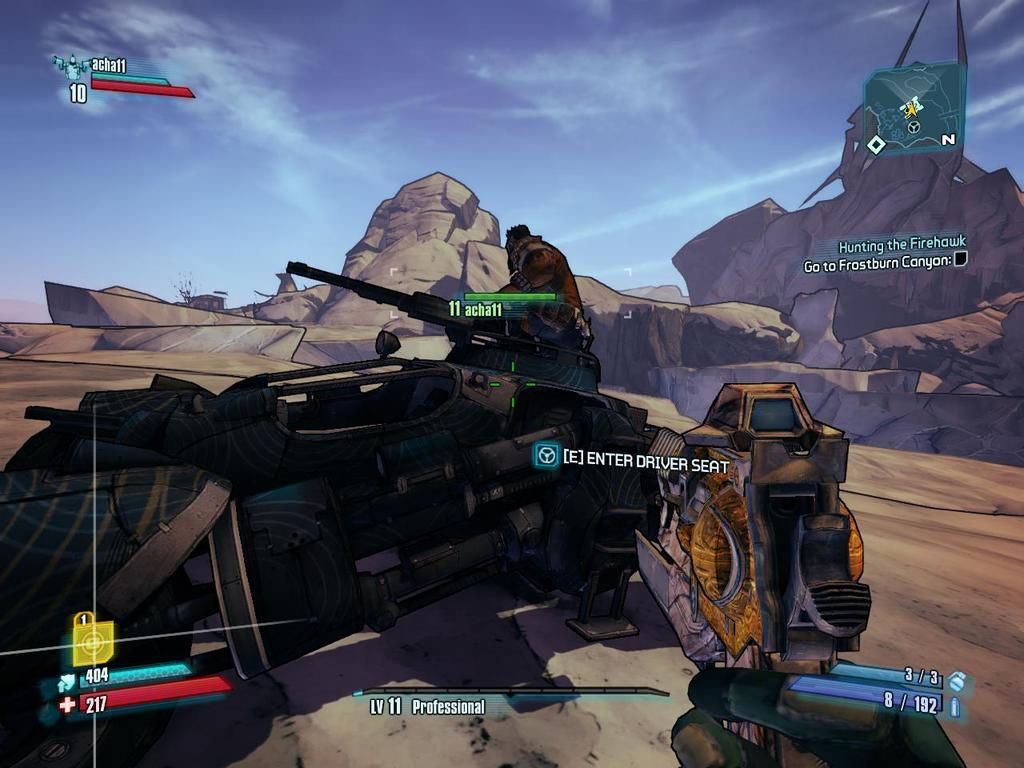Rifle: (17, 356, 467, 680), (286, 258, 603, 382)
